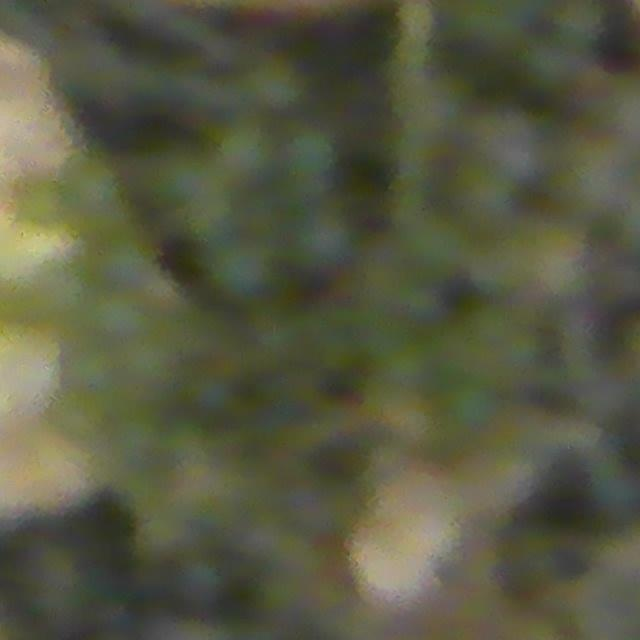SeaGrape: (289, 206, 355, 274), (209, 236, 275, 301), (216, 118, 279, 183), (247, 54, 309, 116), (282, 124, 338, 184)
